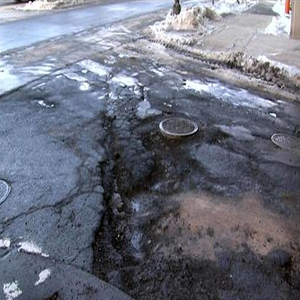pothole: (89, 145, 297, 290)
